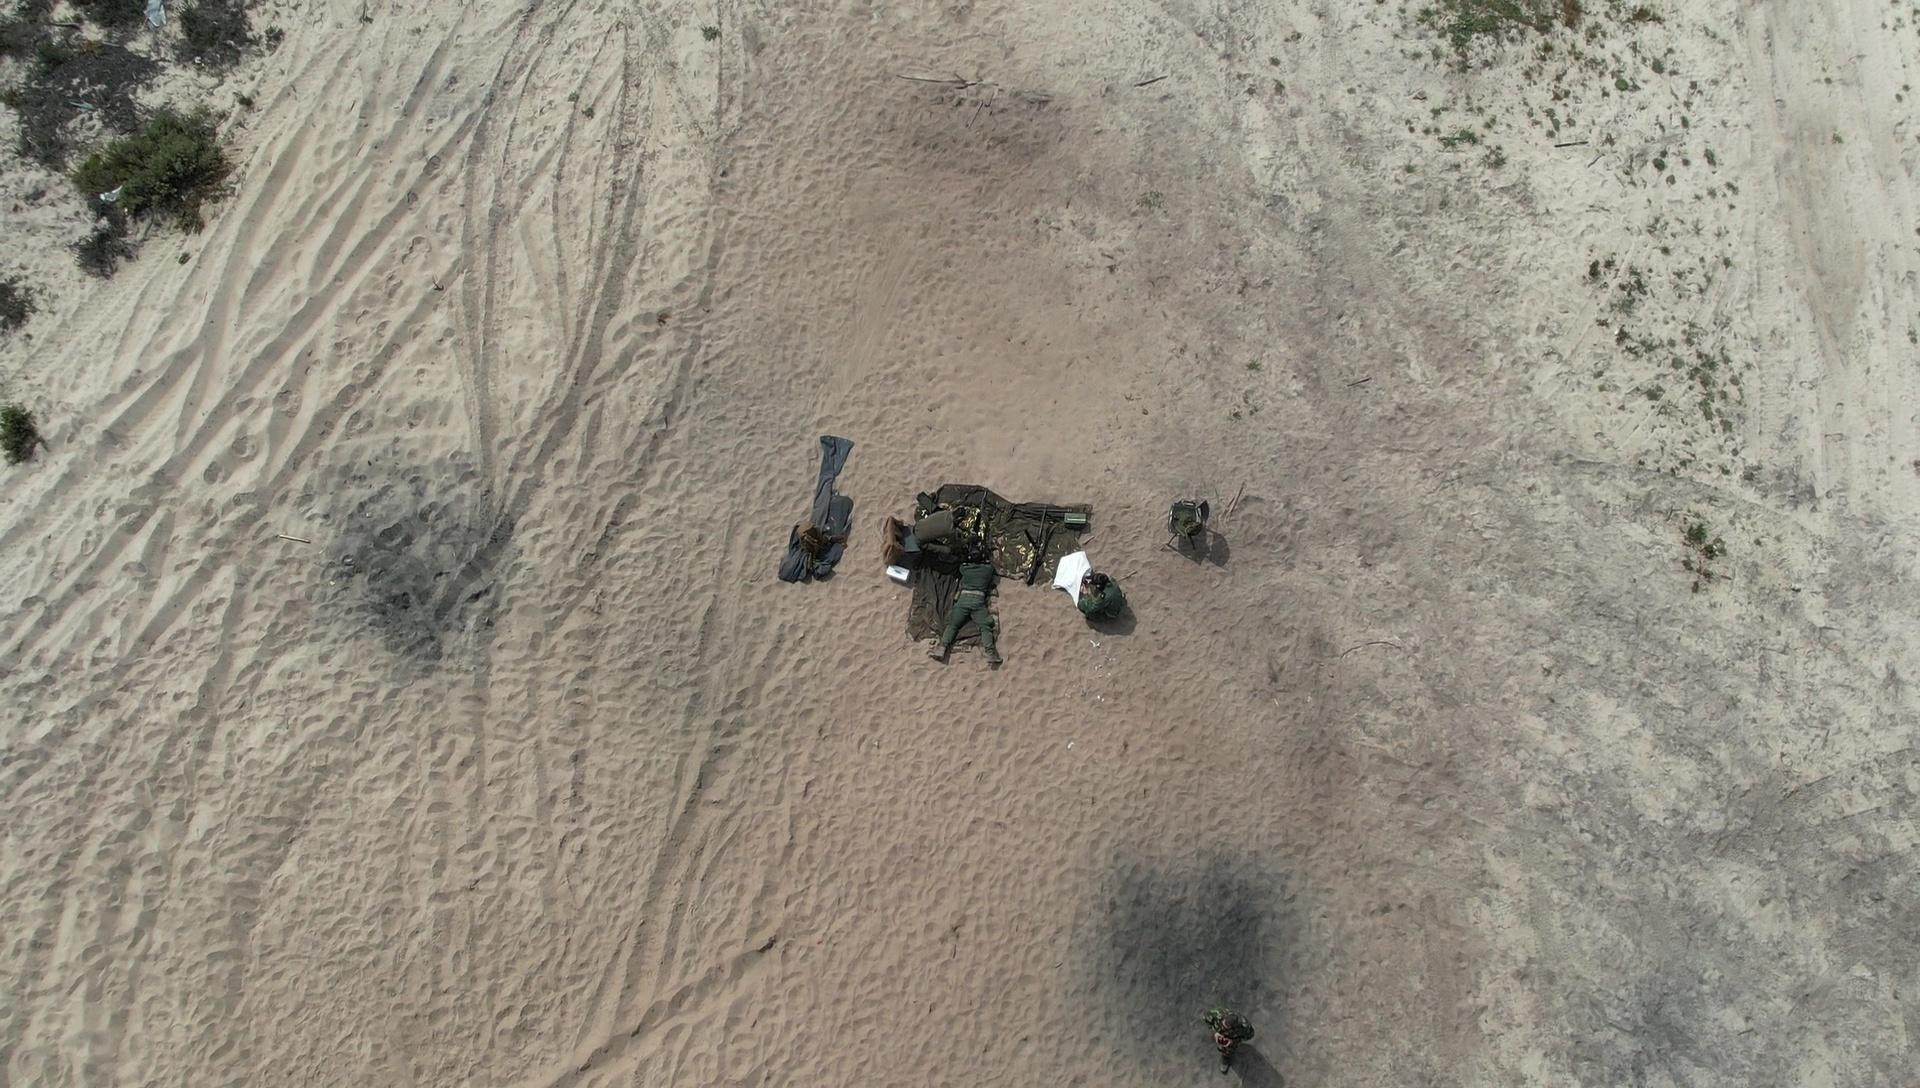Soldier: (924, 525, 1005, 659), (1077, 557, 1137, 662), (906, 505, 992, 578), (1197, 994, 1269, 1077)
